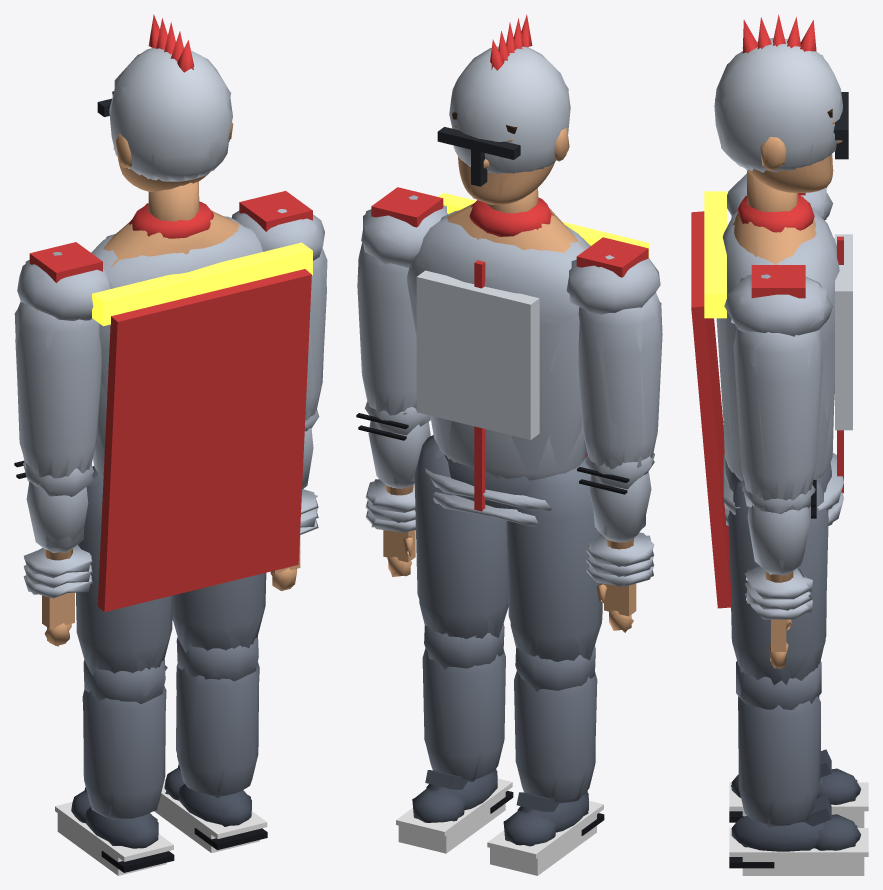
File: char_knight.glb
3 renders of one model, left to right at view 1: azimuth 30°, elevation 25°; view 2: azimuth 150°, elevation 25°; view 3: azimuth 270°, elevation 25°, orthographic. The views are drawn at different scales.
Visible parts, largest first — view 1: torso_d_e03a3a, lod_low, arm_L_sleeve, head_helm, shin_L_pant, leg_L_pant, shin_R_pant, torso_d_top, leg_R_pant, torso_jacket, forearm_L_sleeve, shin_L_d_f4f4f4 (+14 smaller); view 2: lod_low, torso_d_dfe6ee, leg_L_pant, torso_jacket, leg_R_pant, arm_L_sleeve, head_helm, arm_R_sleeve, shin_L_pant, shin_R_pant, torso_d_top, shin_R_d_f4f4f4 (+19 smaller); view 3: lod_low, arm_R_sleeve, head_helm, leg_R_pant, shin_R_pant, torso_jacket, torso_d_top, torso_d_e03a3a, shin_R_d_f4f4f4, shin_R_d_4a5260, forearm_R_sleeve, torso_d_dfe6ee (+20 smaller).
Part boxes in pixels (box(x1,y1,x2,y2)): torso_d_e03a3a: box(97, 274, 311, 611); lod_low: box(14, 14, 327, 869); arm_L_sleeve: box(15, 302, 101, 487); head_helm: box(109, 47, 232, 181); shin_L_pant: box(83, 686, 165, 818); leg_L_pant: box(76, 466, 172, 673); shin_R_pant: box(176, 665, 259, 796); torso_d_top: box(17, 211, 324, 320); leg_R_pant: box(172, 573, 266, 650); torso_jacket: box(91, 216, 262, 477); forearm_L_sleeve: box(26, 481, 88, 553); shin_L_d_f4f4f4: box(55, 802, 173, 875); lod_low: box(358, 14, 661, 875); torso_d_dfe6ee: box(416, 277, 539, 439); leg_L_pant: box(506, 457, 602, 661); torso_jacket: box(410, 210, 590, 479); leg_R_pant: box(414, 435, 508, 638); arm_L_sleeve: box(578, 292, 662, 477); head_helm: box(449, 46, 570, 174); arm_R_sleeve: box(357, 242, 416, 415); shin_L_pant: box(516, 671, 596, 801); shin_R_pant: box(425, 651, 504, 779); torso_d_top: box(363, 208, 660, 314); shin_R_d_f4f4f4: box(396, 778, 512, 853); lod_low: box(691, 16, 857, 850); arm_R_sleeve: box(735, 328, 822, 512); head_helm: box(714, 38, 842, 172); leg_R_pant: box(729, 481, 828, 685); shin_R_pant: box(738, 696, 819, 826); torso_jacket: box(716, 211, 839, 481); torso_d_top: box(724, 173, 833, 336); torso_d_e03a3a: box(691, 306, 731, 608); shin_R_d_f4f4f4: box(729, 828, 868, 875); shin_R_d_4a5260: box(731, 795, 860, 851); forearm_R_sleeve: box(747, 505, 809, 575); torso_d_dfe6ee: box(835, 291, 852, 430).
Size of the model in its own units: 0.7699 by 2.03 by 0.3944.
